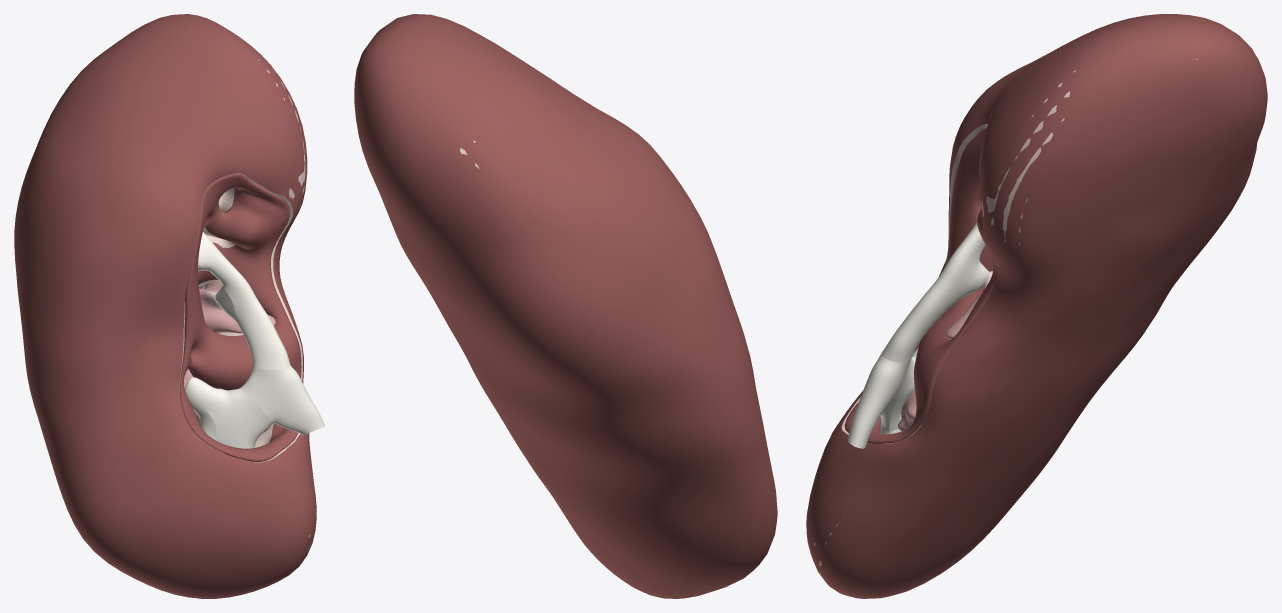
File: kidney_r.glb
3 renders of one model, left to right at view 1: azimuth 30°, elevation 25°; view 2: azimuth 150°, elevation 25°; view 3: azimuth 270°, elevation 25°, orthographic. The views are drawn at different scales.
Visible parts, largest first — view 1: VH_M_kidney_capsule_R, VH_M_renal_pelvis_R, VH_M_renal_papilla_R_j, VH_M_renal_pyramid_a; view 2: VH_M_kidney_capsule_R; view 3: VH_M_kidney_capsule_R, VH_M_renal_pelvis_R, VH_M_renal_papilla_R_j, VH_M_renal_pyramid_a.
Boxes of the visible parts, x1,y1,x2,y2 form: VH_M_kidney_capsule_R: (14,14,316,598); VH_M_renal_pelvis_R: (185,232,325,448); VH_M_renal_papilla_R_j: (179,59,316,563); VH_M_renal_pyramid_a: (184,280,275,432); VH_M_kidney_capsule_R: (354,14,777,598); VH_M_kidney_capsule_R: (806,14,1267,598); VH_M_renal_pelvis_R: (847,201,989,448); VH_M_renal_papilla_R_j: (814,47,1197,574); VH_M_renal_pyramid_a: (898,288,985,431).
Size of the model in its own units: 0.0655 by 0.1125 by 0.0764.
